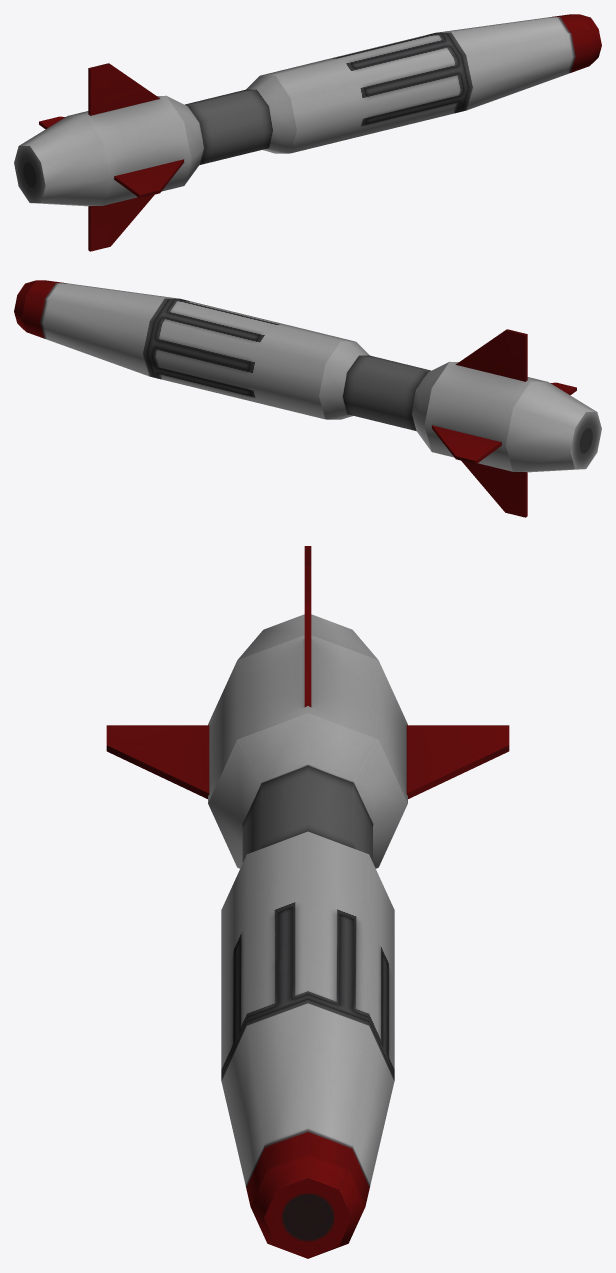
Rendered from missile_v2.fbx.
The picture shows the model from 3 angles, top to bottom: view 1: azimuth 30°, elevation 25°; view 2: azimuth 150°, elevation 25°; view 3: azimuth 270°, elevation 25°; orthographic projection. The views are drawn at different scales.
Visible parts, largest first — view 1: missile; view 2: missile; view 3: missile.
Part boxes in pixels (bbox=[...]): missile: bbox=[14, 14, 601, 251]; missile: bbox=[14, 280, 601, 517]; missile: bbox=[106, 546, 509, 1258].
Size of the model in its own units: 0.2522 by 0.0783 by 0.0783.
